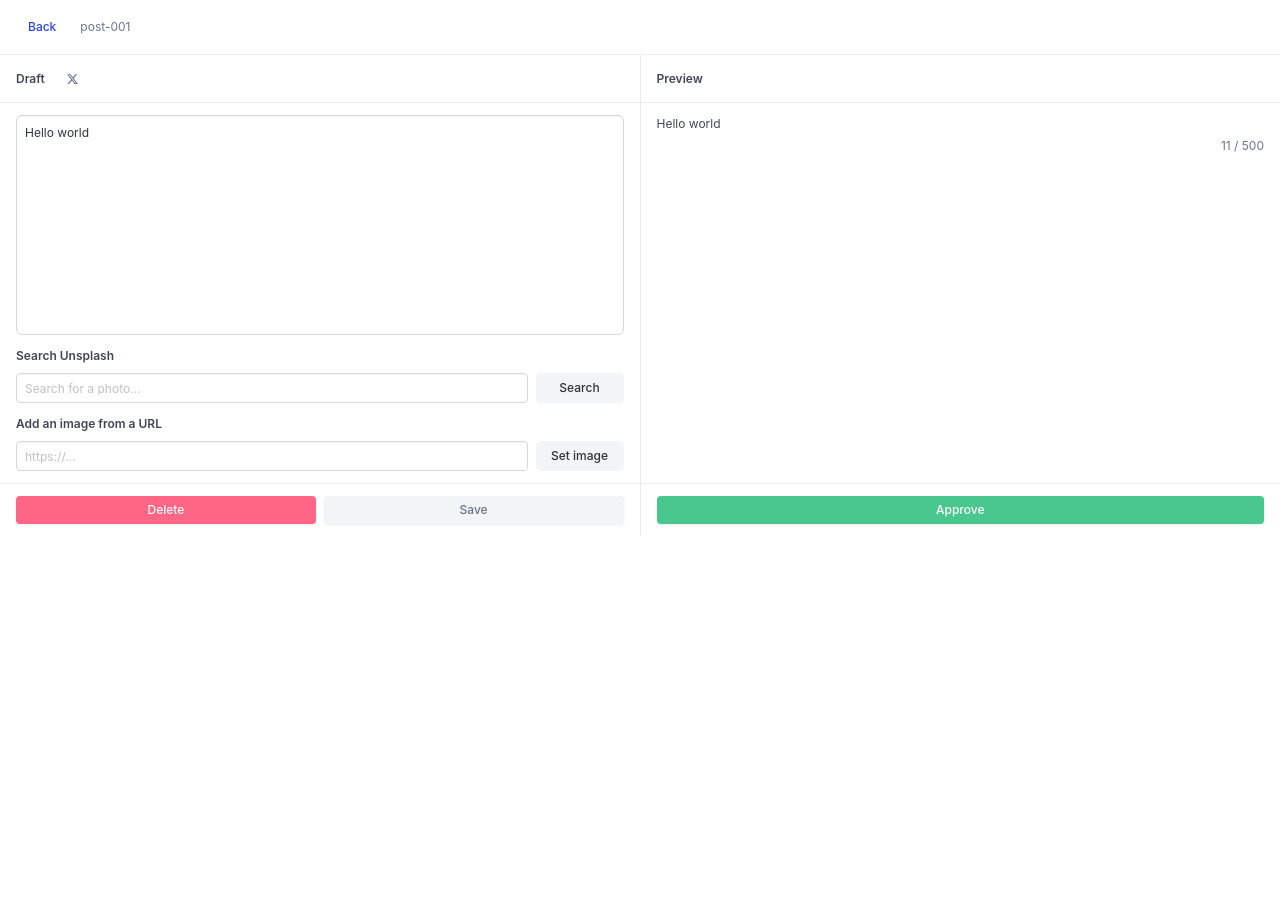
EditPostView — DeleteModal unknown platform label › shows raw platform string in delete dialog for unlabelled platform
This screenshot has width=1280, height=900.
Step 1. Click the button "Delete" → (166, 510), box [16,496,316,524]
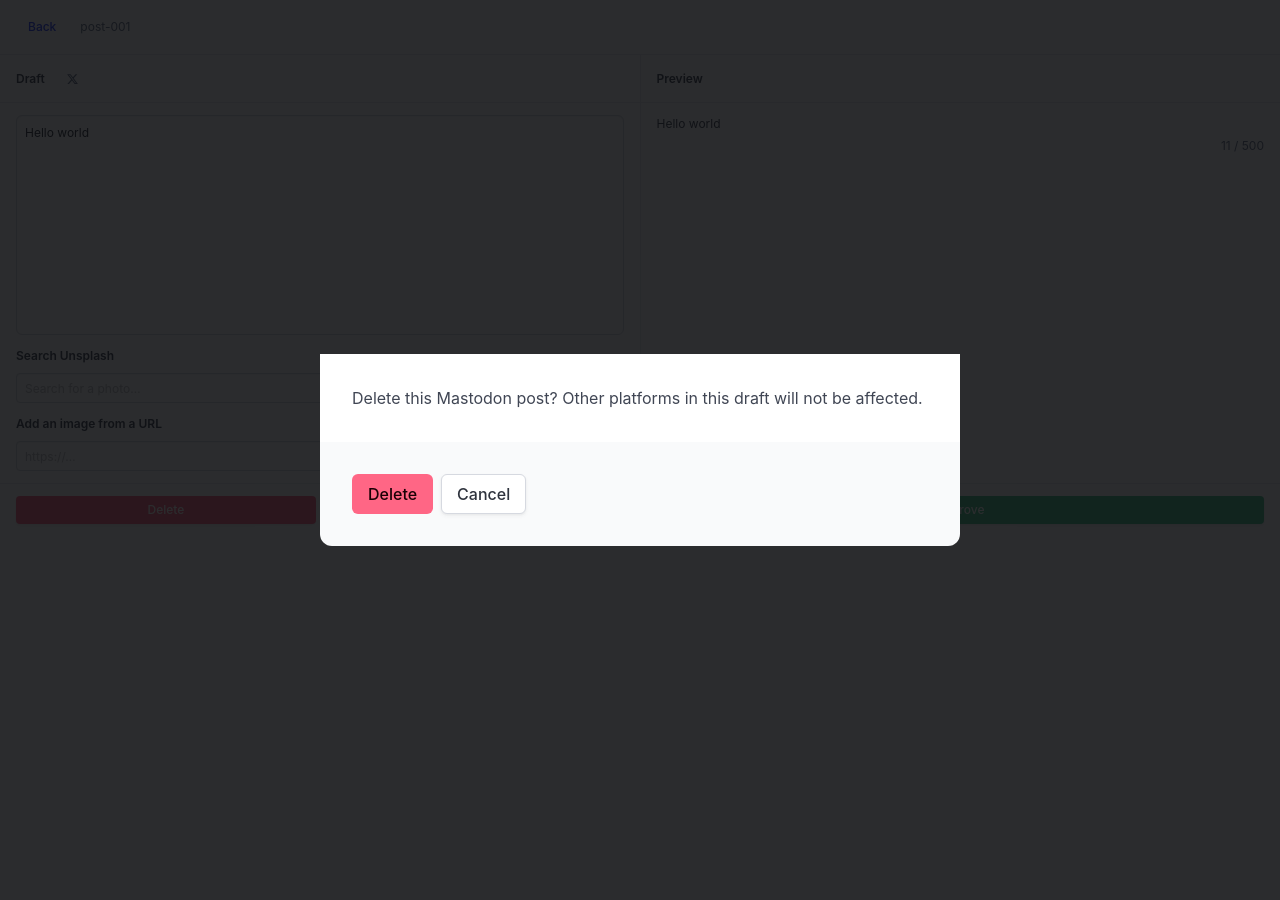
Expected: the dialog shows "Mastodon", [436,388,512,408]
